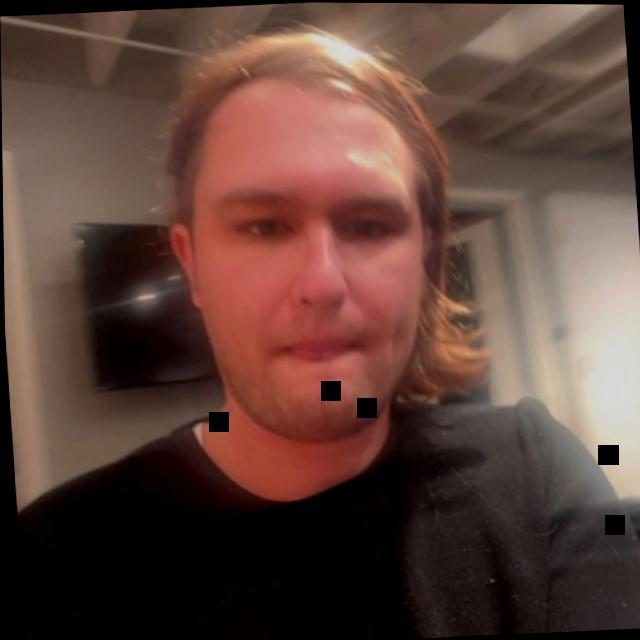NO-Mask: (146, 26, 478, 524)
